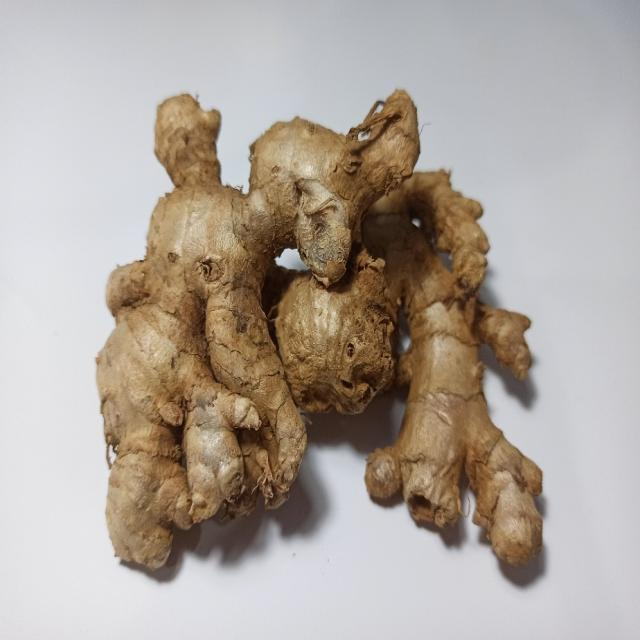ginger: (98, 91, 548, 577)
